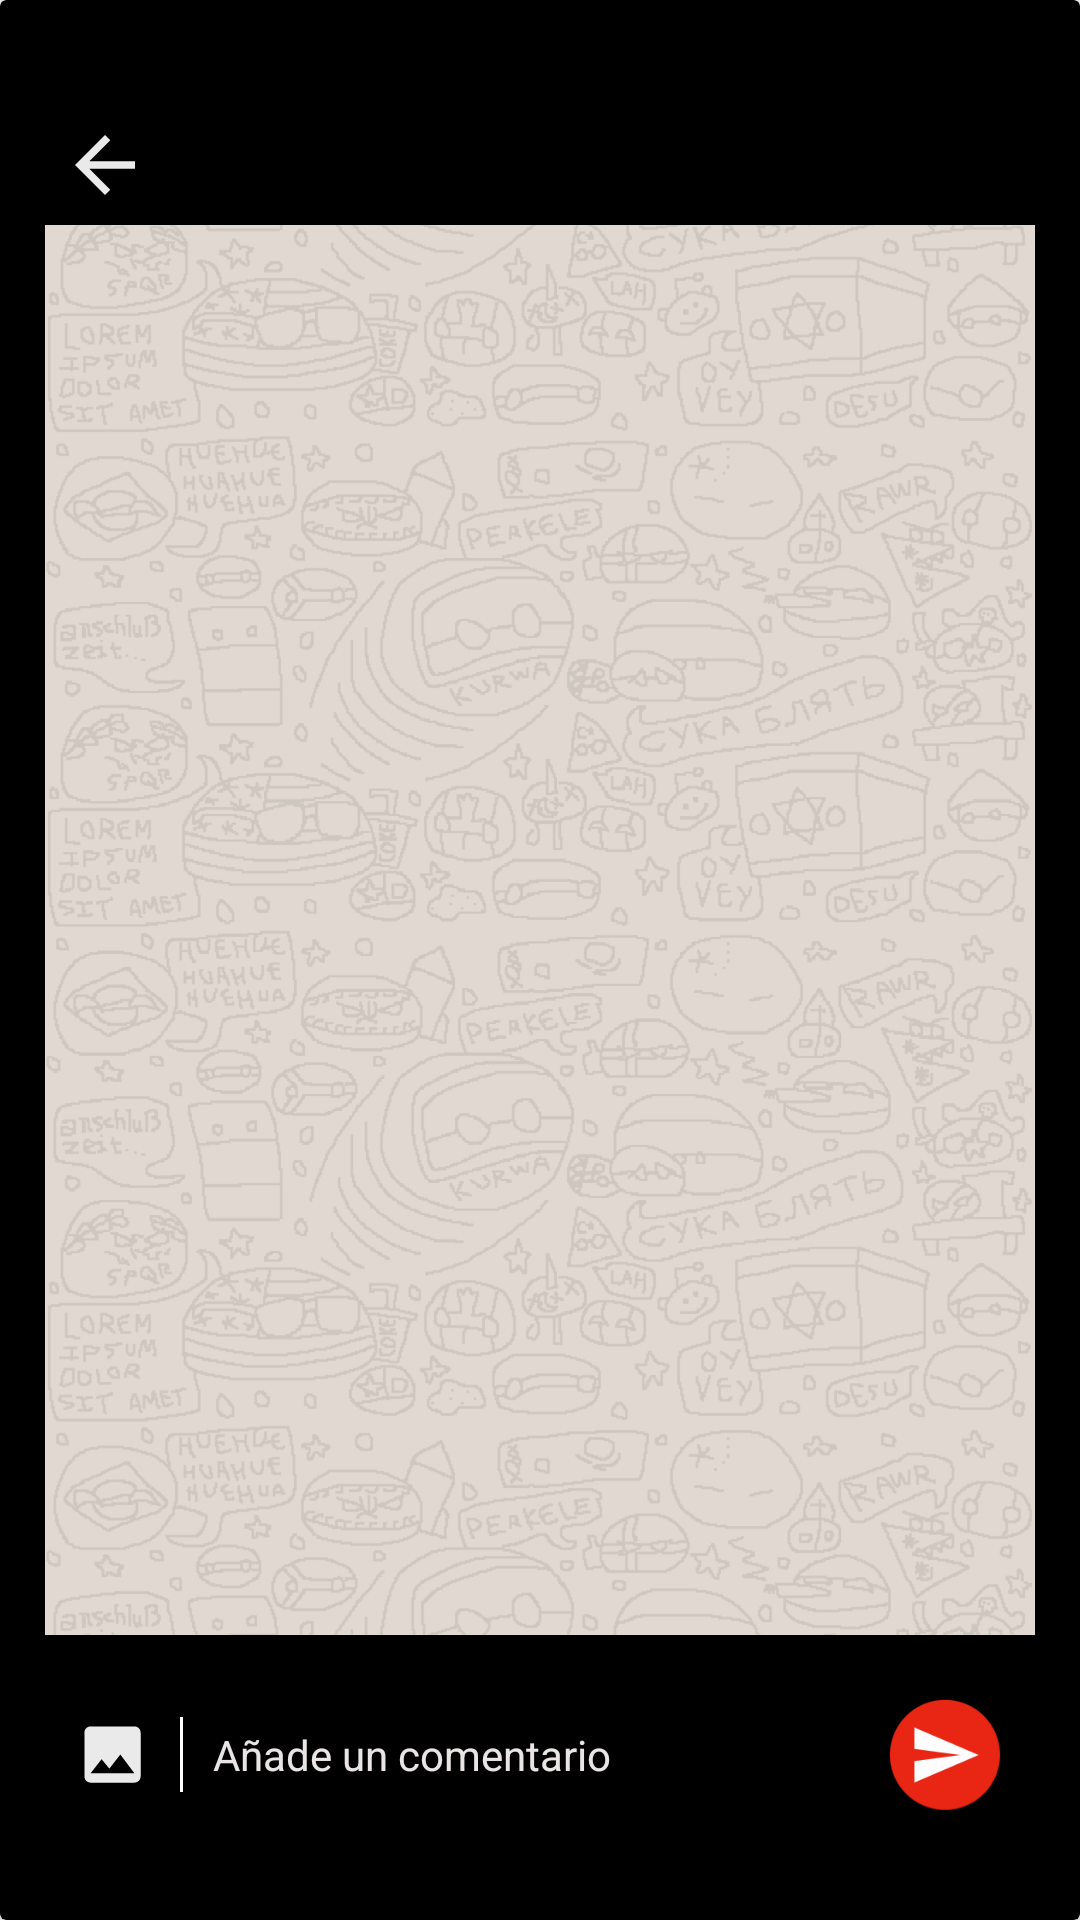

Locate icon controls on the screen. Image size 1080*1920, boxes as (left=x1, top=y1, right=x2, bottom=y2).
arrow back: (left=75, top=135, right=135, bottom=195)
photo: (left=84, top=1726, right=141, bottom=1783)
send: (left=889, top=1699, right=1000, bottom=1810)
